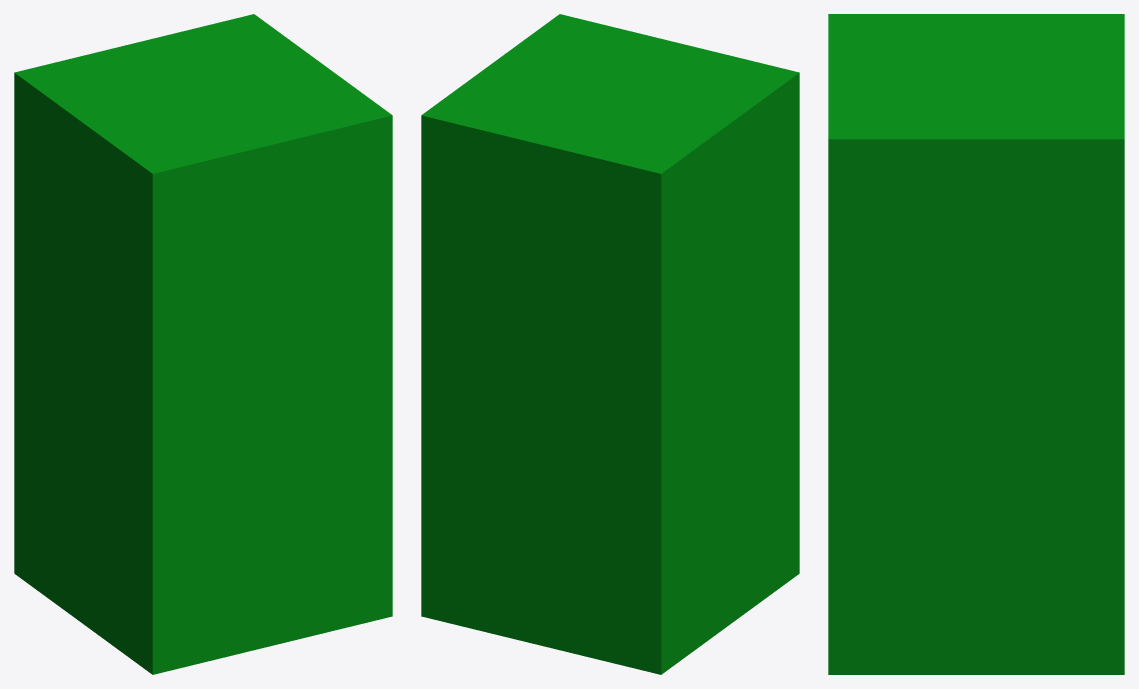
Rendered from GreenNormalEdge.fbx.
The picture shows the model from 3 angles, left to right: view 1: azimuth 30°, elevation 25°; view 2: azimuth 150°, elevation 25°; view 3: azimuth 270°, elevation 25°; orthographic projection. The views are drawn at different scales.
Parts seen in each view (by area): view 1: 4.BODY.green; view 2: 4.BODY.green; view 3: 4.BODY.green.
Boxes of the visible parts, x1,y1,x2,y2 form: 4.BODY.green: (14, 14, 392, 674); 4.BODY.green: (421, 14, 799, 674); 4.BODY.green: (828, 14, 1124, 674).
Bounding box in the file's own units: 101 × 201 × 101.
